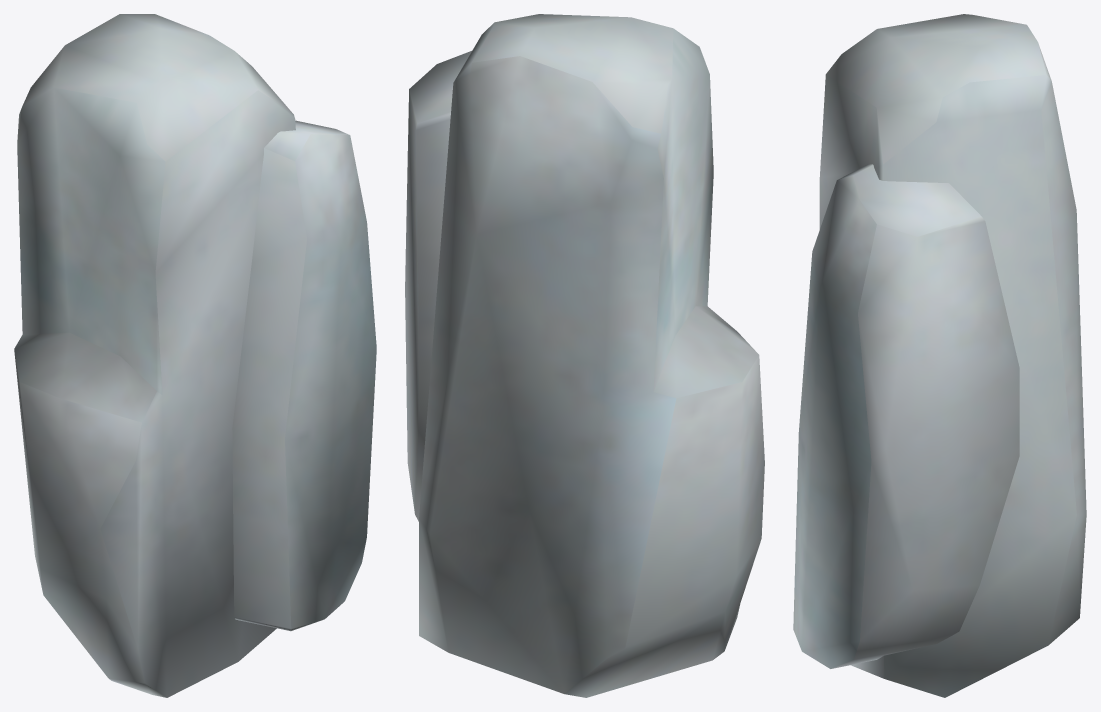
Rendered from P_RockSpire_Rock16.obj.
3 views of the same model, side by side, from view 1: azimuth 30°, elevation 25°; view 2: azimuth 150°, elevation 25°; view 3: azimuth 270°, elevation 25° (orthographic). The views are drawn at different scales.
Size of the model in its own units: 8.86 by 15.39 by 6.64.
